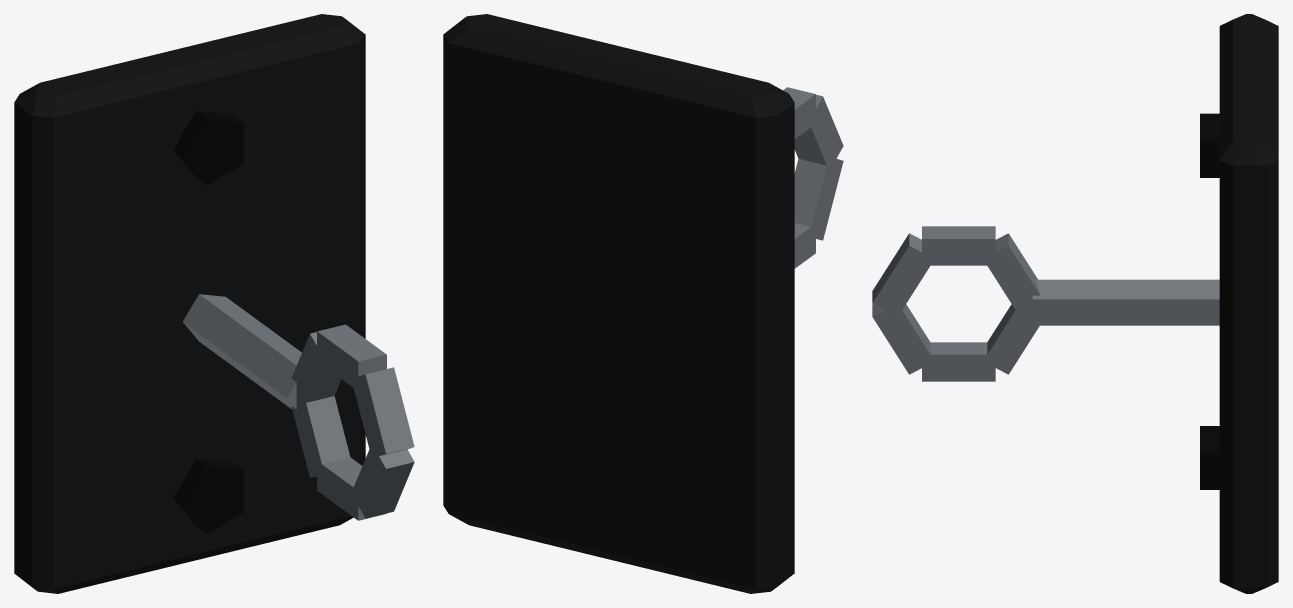
The model's file is SM_Int_Tripwire_Hook.glb.
The picture shows the model from 3 angles, left to right: view 1: azimuth 30°, elevation 25°; view 2: azimuth 150°, elevation 25°; view 3: azimuth 270°, elevation 25°; orthographic projection. The views are drawn at different scales.
Parts seen in each view (by area): view 1: SM_Int_Tripwire_Hook; view 2: SM_Int_Tripwire_Hook; view 3: SM_Int_Tripwire_Hook.
Boxes of the visible parts, x1=… form: SM_Int_Tripwire_Hook: x1=14, y1=14, x2=414, y2=593; SM_Int_Tripwire_Hook: x1=443, y1=14, x2=843, y2=593; SM_Int_Tripwire_Hook: x1=872, y1=14, x2=1278, y2=593.
Size of the model in its own units: 0.07 by 0.1 by 0.0826.
1 material, 1 textured.
